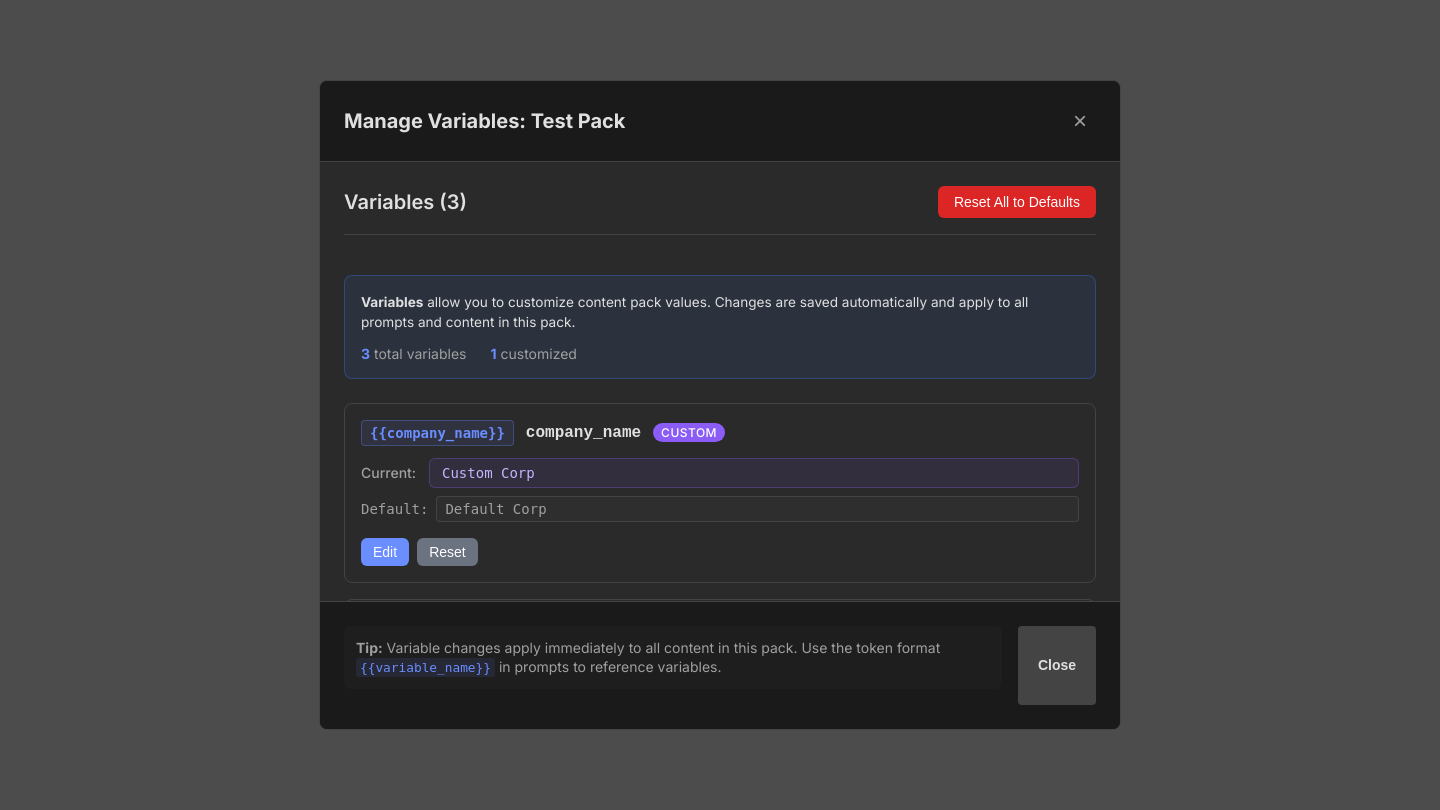
it: VariableManager › Variable Editing › should disable save button when input is empty
Expected: the text "{{company_name}}" is shown, [361,420,514,446]
Enter edit mode
Click the button "Edit": (385, 552) [361,538,409,566]
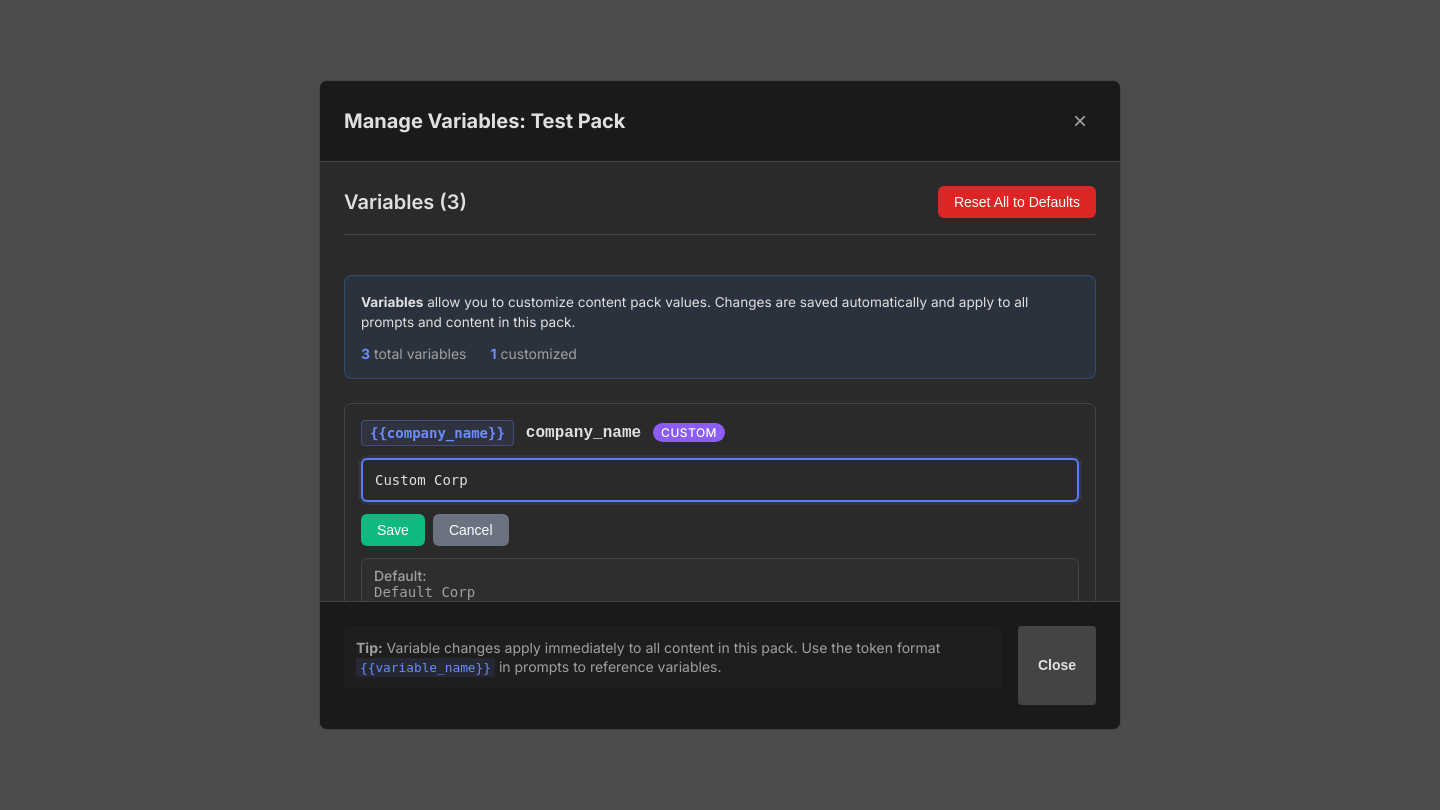
Clear the input
Clear the field showing "Custom Corp": (720, 480) [361,458,1079,502]
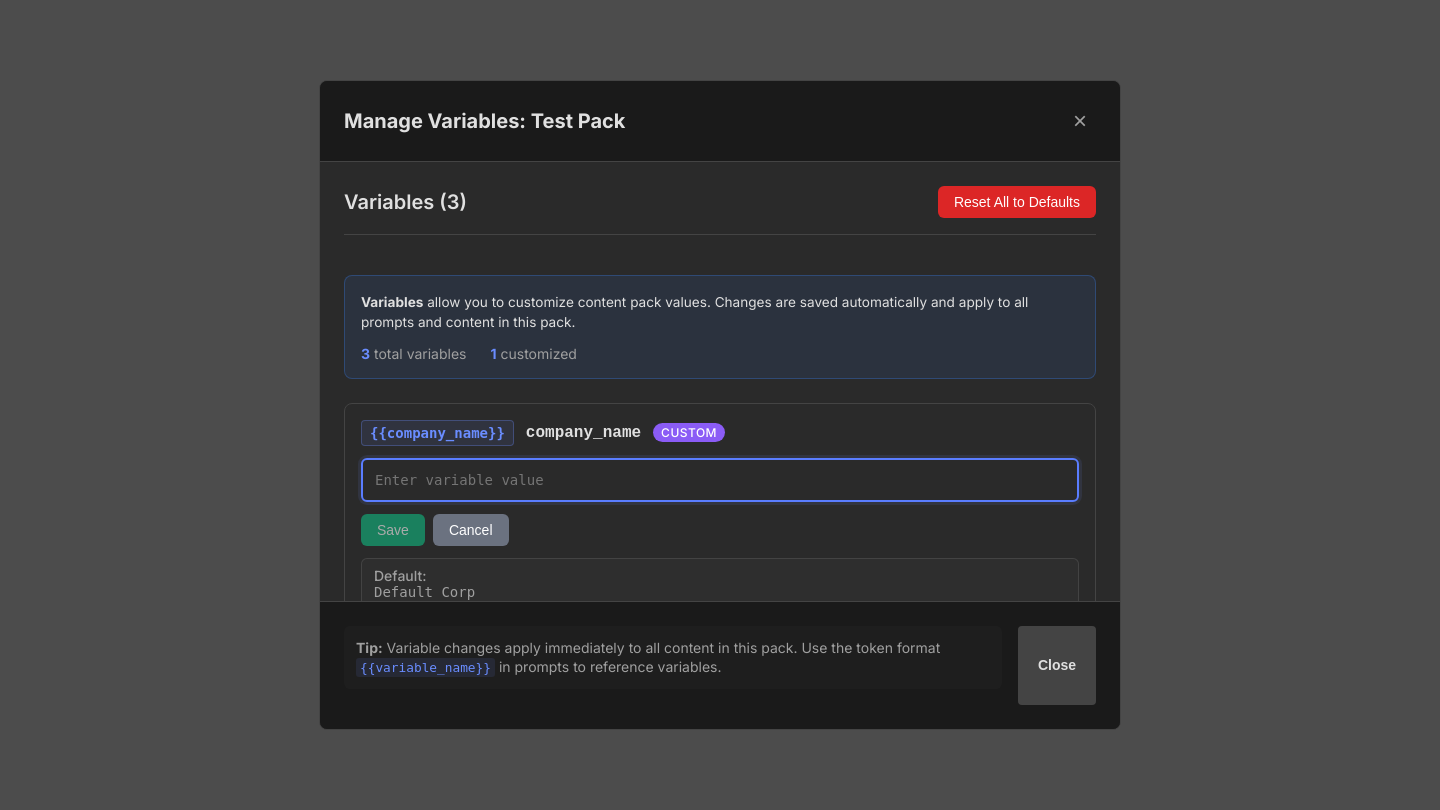
Expected: the button "Save" is disabled, [361,514,425,546]
